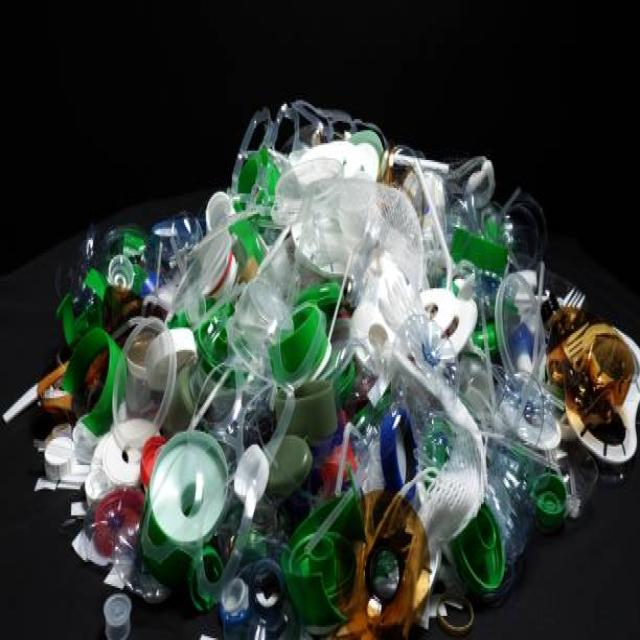plastic: (72, 188, 611, 554)
